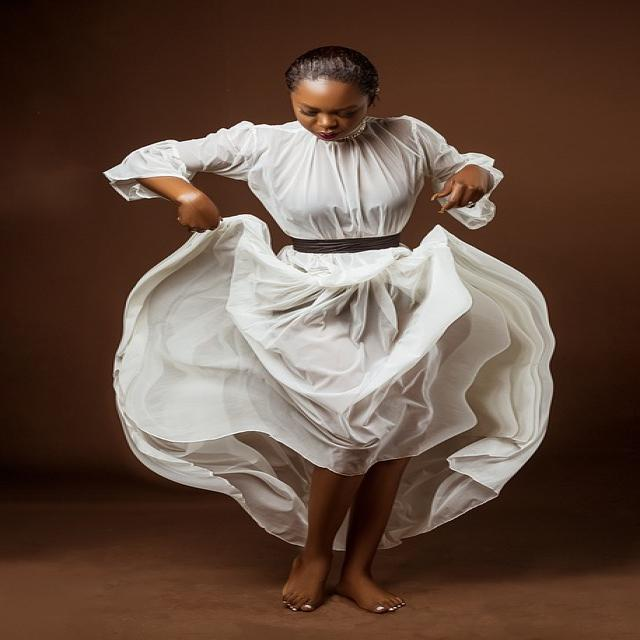Edited images: (84, 32, 576, 629)
